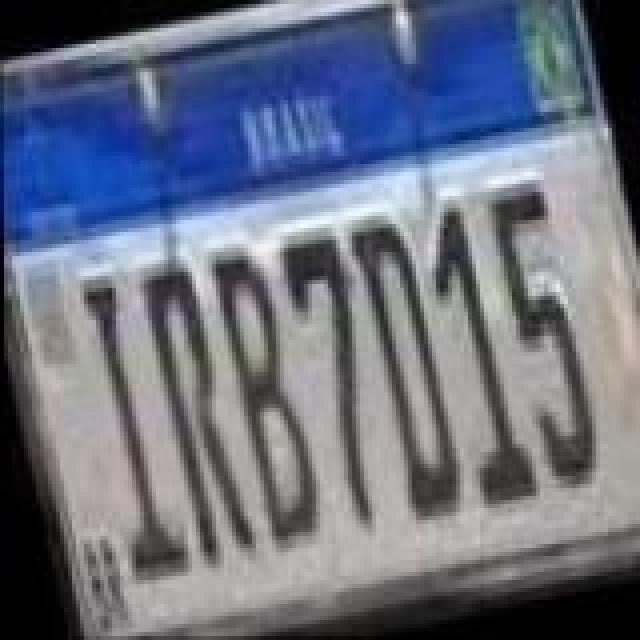1: (412, 188, 540, 516)
5: (480, 176, 608, 496)
7: (272, 228, 396, 536)
B: (204, 244, 328, 556)
D: (342, 208, 474, 528)
I: (62, 262, 190, 594)
R: (136, 256, 260, 568)
